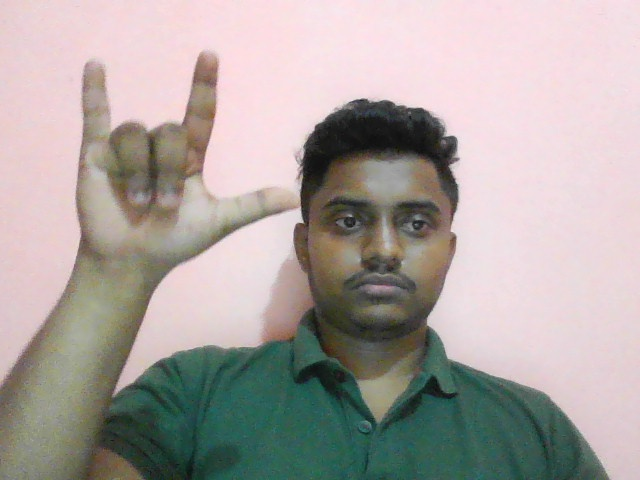I Love You: (65, 45, 307, 284)
